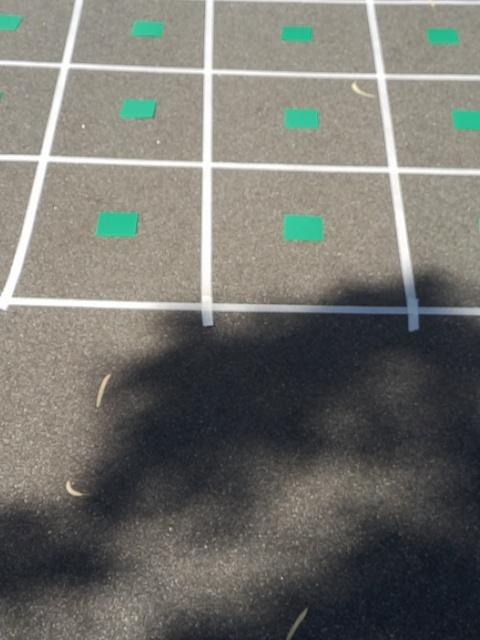weed: (284, 213, 324, 244), (95, 212, 139, 238), (119, 98, 158, 119), (425, 26, 459, 49), (282, 108, 320, 128), (452, 106, 480, 131), (129, 20, 167, 37), (282, 24, 314, 42), (0, 12, 25, 33)
